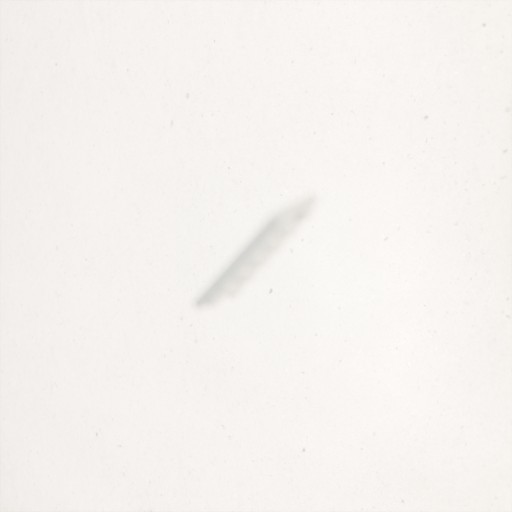lego: (191, 192, 321, 312)
